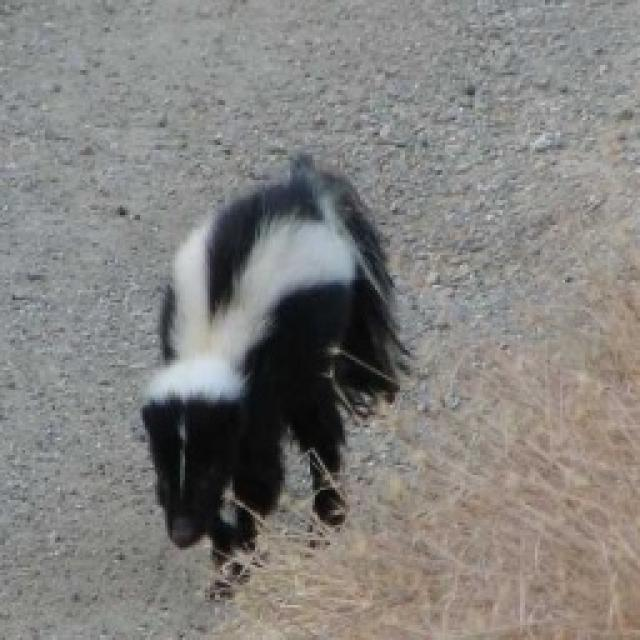not_pig: (138, 150, 412, 602)
